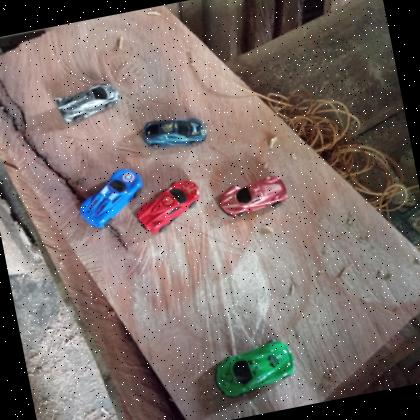Car: (209, 337, 300, 402), (73, 164, 151, 232), (130, 176, 208, 237), (214, 172, 292, 222), (138, 109, 211, 158), (53, 79, 125, 127)
